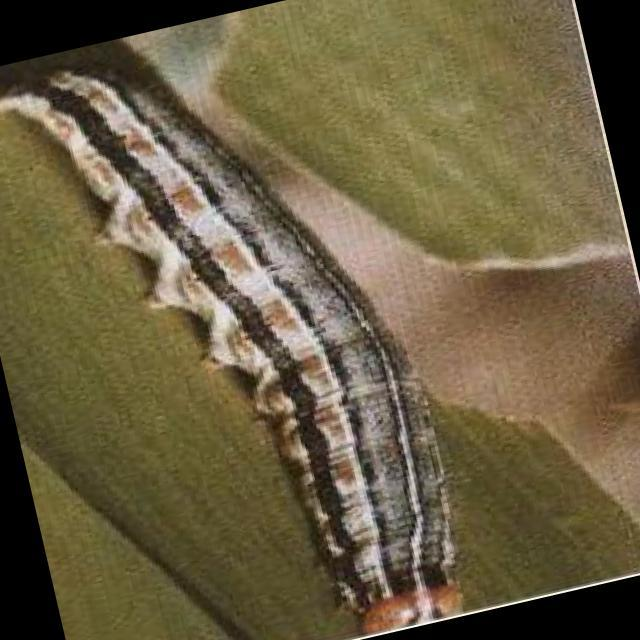Plaga: (1, 1, 513, 640)
